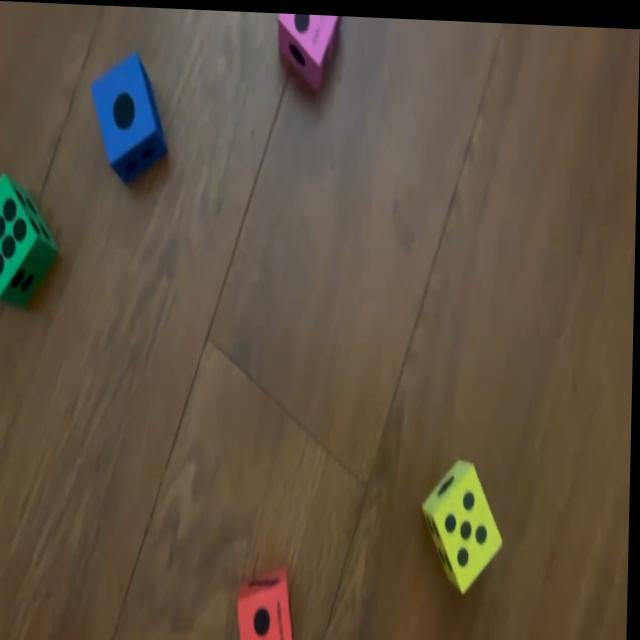cube: (90, 52, 167, 178), (0, 173, 59, 307), (241, 563, 298, 640)
